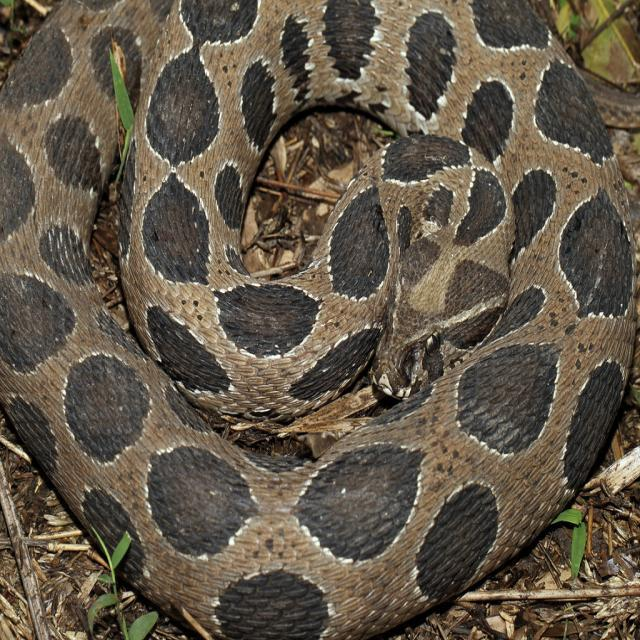Snake: (0, 0, 636, 638)
